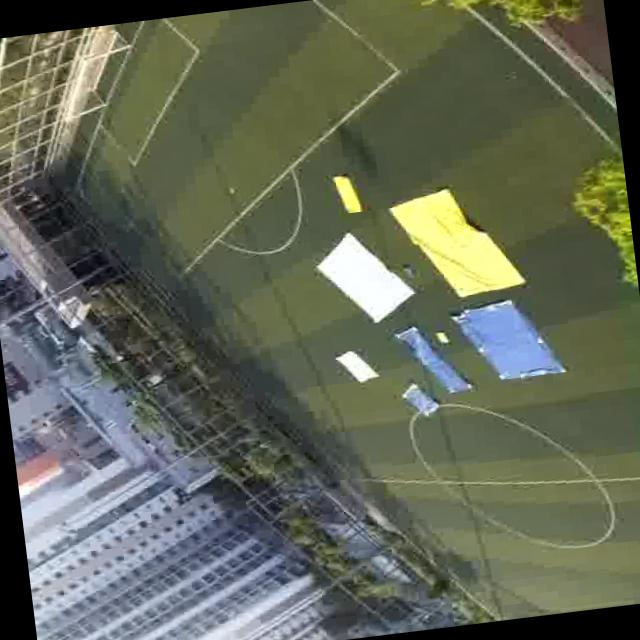danger: (477, 298, 558, 380), (390, 324, 438, 381), (398, 382, 440, 420)
safety: (326, 234, 406, 330), (331, 344, 379, 384)
warning: (411, 188, 506, 304), (334, 176, 360, 211)
